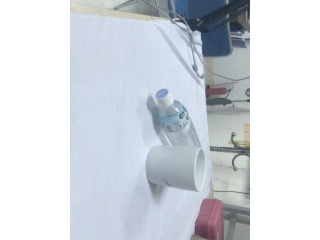bottle: (154, 88, 202, 148)
cup: (145, 144, 206, 192)
